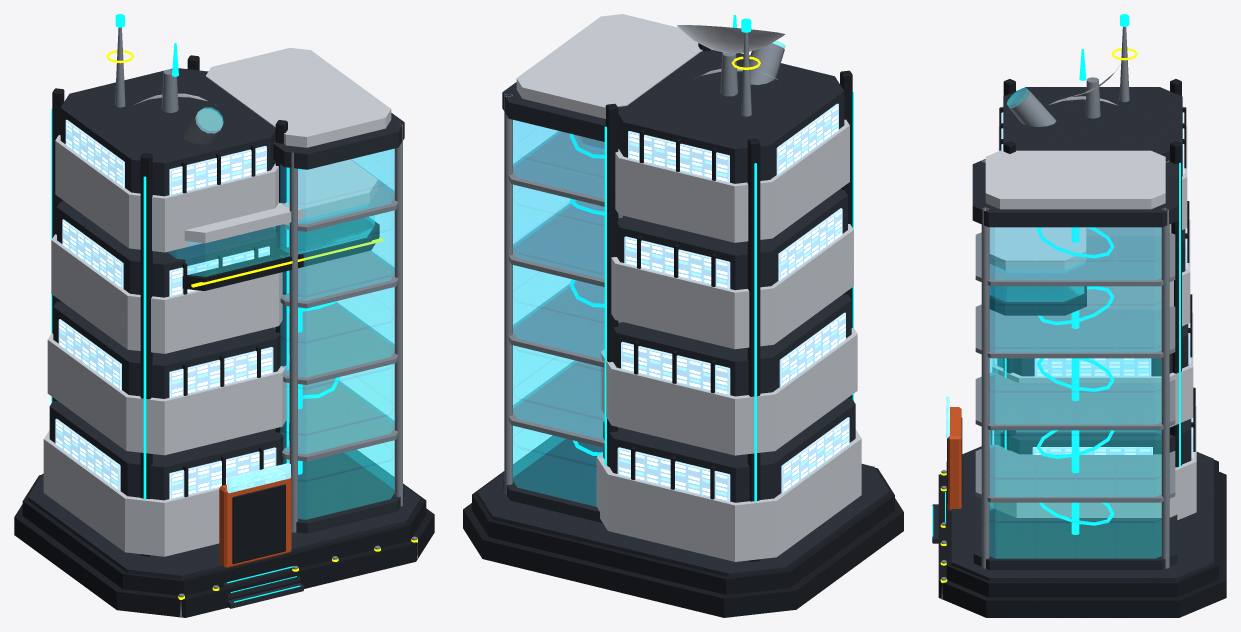
Rendered from bldg_08_r1_05.glb.
The picture shows the model from 3 angles, left to right: view 1: azimuth 30°, elevation 25°; view 2: azimuth 150°, elevation 25°; view 3: azimuth 270°, elevation 25°; orthographic projection. The views are drawn at different scales.
Visible parts, largest first — view 1: Bldg08_C05_aero_white, Bldg08_C05_carbon_slate, Bldg08_C05_glass_cyan, Bldg08_C05_gunmetal, Bldg08_C05_steel_machined, Bldg08_C05_window_lit, Bldg08_C05_led_cyan, Bldg08_C05_accent_orange, Bldg08_C05_marquee, Bldg08_C05_led_amber; view 2: Bldg08_C05_aero_white, Bldg08_C05_carbon_slate, Bldg08_C05_glass_cyan, Bldg08_C05_gunmetal, Bldg08_C05_steel_machined, Bldg08_C05_window_lit, Bldg08_C05_led_cyan; view 3: Bldg08_C05_glass_cyan, Bldg08_C05_steel_machined, Bldg08_C05_carbon_slate, Bldg08_C05_aero_white, Bldg08_C05_gunmetal, Bldg08_C05_led_cyan, Bldg08_C05_window_lit, Bldg08_C05_accent_orange.
Boxes of the visible parts, x1=… form: Bldg08_C05_aero_white: x1=43, y1=48, x2=391, y2=556; Bldg08_C05_carbon_slate: x1=27, y1=68, x2=421, y2=608; Bldg08_C05_glass_cyan: x1=168, y1=107, x2=394, y2=519; Bldg08_C05_gunmetal: x1=14, y1=55, x2=434, y2=617; Bldg08_C05_steel_machined: x1=115, y1=27, x2=417, y2=617; Bldg08_C05_window_lit: x1=55, y1=119, x2=276, y2=499; Bldg08_C05_led_cyan: x1=51, y1=14, x2=340, y2=602; Bldg08_C05_accent_orange: x1=219, y1=475, x2=291, y2=568; Bldg08_C05_marquee: x1=227, y1=463, x2=290, y2=493; Bldg08_C05_led_amber: x1=106, y1=50, x2=417, y2=599; Bldg08_C05_aero_white: x1=516, y1=14, x2=861, y2=561; Bldg08_C05_carbon_slate: x1=477, y1=49, x2=889, y2=576; Bldg08_C05_glass_cyan: x1=513, y1=40, x2=785, y2=506; Bldg08_C05_gunmetal: x1=463, y1=43, x2=903, y2=617; Bldg08_C05_steel_machined: x1=504, y1=32, x2=885, y2=495; Bldg08_C05_window_lit: x1=617, y1=103, x2=849, y2=502; Bldg08_C05_led_cyan: x1=569, y1=15, x2=853, y2=501; Bldg08_C05_glass_cyan: x1=989, y1=87, x2=1161, y2=558; Bldg08_C05_steel_machined: x1=941, y1=27, x2=1175, y2=599; Bldg08_C05_carbon_slate: x1=932, y1=87, x2=1213, y2=581; Bldg08_C05_aero_white: x1=985, y1=61, x2=1196, y2=520; Bldg08_C05_gunmetal: x1=938, y1=79, x2=1226, y2=617; Bldg08_C05_led_cyan: x1=932, y1=14, x2=1180, y2=536; Bldg08_C05_window_lit: x1=992, y1=105, x2=1193, y2=458; Bldg08_C05_accent_orange: x1=947, y1=407, x2=961, y2=510.
Size of the model in its own units: 12 by 18.82 by 10.23.
Materials: 10 (10 with a texture image).
